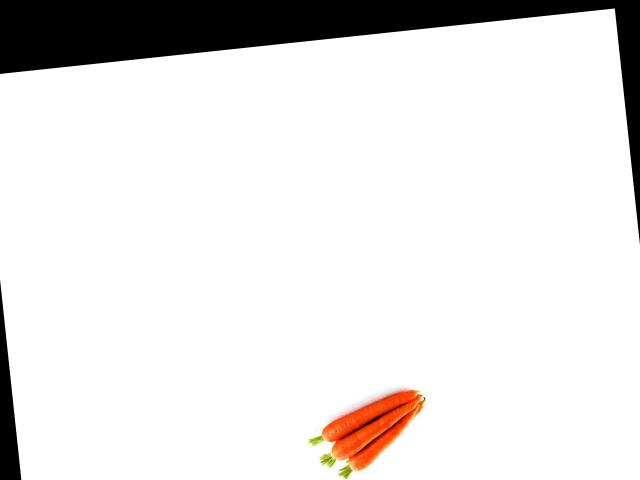carrot: (308, 387, 420, 446)
